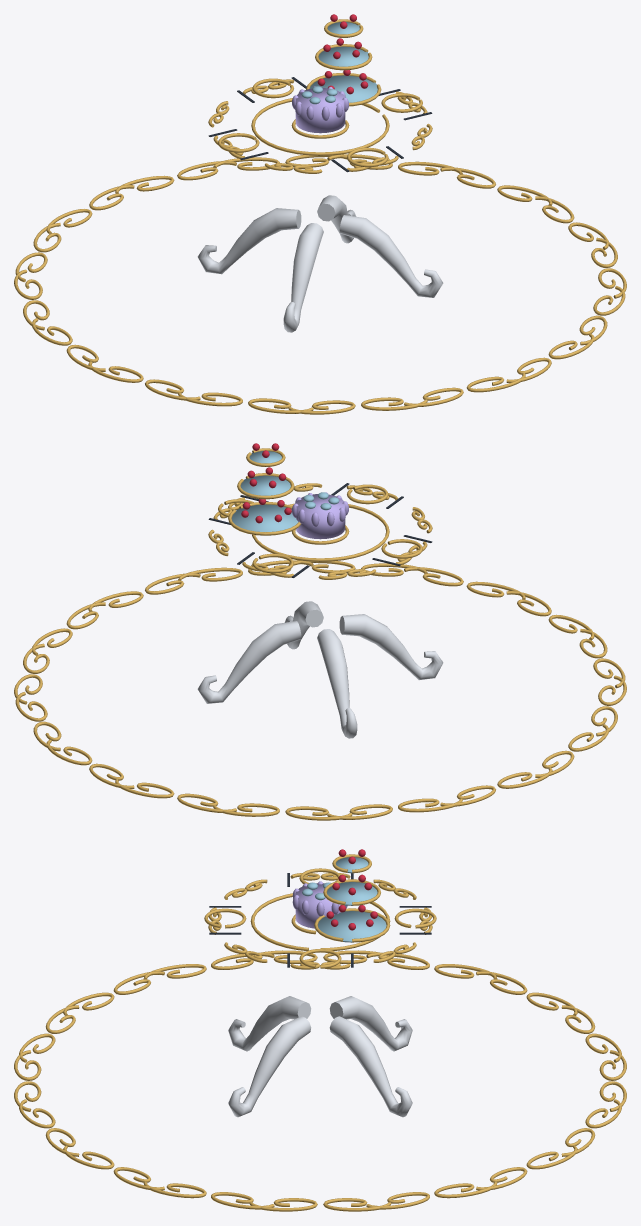
File: KRM_STATIC_056.fbx
3 renders of one model, top to bottom at view 1: azimuth 30°, elevation 25°; view 2: azimuth 150°, elevation 25°; view 3: azimuth 270°, elevation 25°, orthographic.
Visible parts, largest first — view 1: KRM_STATIC_056; view 2: KRM_STATIC_056; view 3: KRM_STATIC_056.
Part boxes in pixels (<box>): KRM_STATIC_056: <box>14,14,626,414</box>; KRM_STATIC_056: <box>14,443,626,820</box>; KRM_STATIC_056: <box>14,849,626,1211</box>.
Bounding box in the file's own units: 270 × 121 × 270.
Materials: 1 (1 with a texture image).
